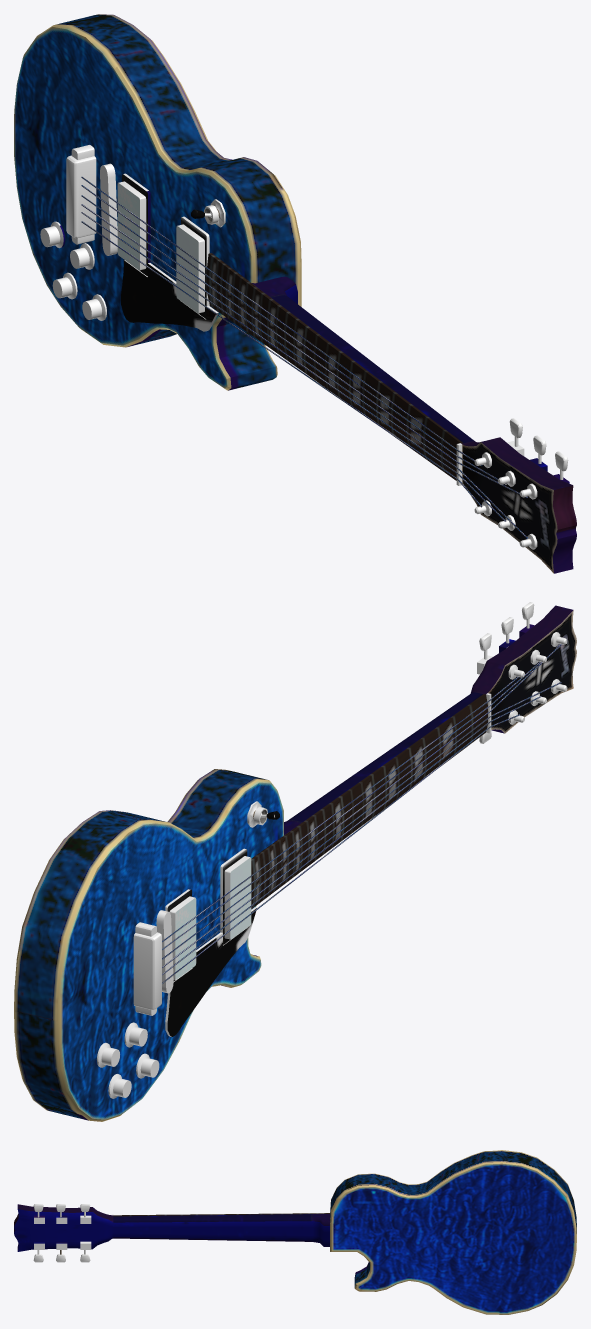
3 renders of one model, top to bottom at view 1: azimuth 30°, elevation 25°; view 2: azimuth 150°, elevation 25°; view 3: azimuth 270°, elevation 25°, orthographic. The views are drawn at different scales.
Visible parts, largest first — view 1: Line002; view 2: Line002; view 3: Line002.
Boxes of the visible parts, x1,y1,x2,y2 form: Line002: [14, 14, 576, 573]; Line002: [14, 602, 576, 1121]; Line002: [14, 1150, 576, 1314].
Size of the model in its own units: 30.99 by 113 by 377.
1 material, 1 textured.
